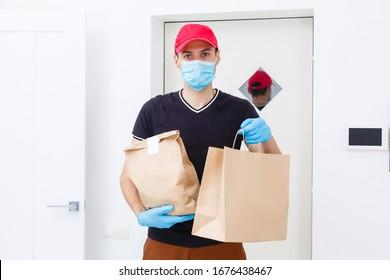gloves: (138, 204, 196, 228), (237, 117, 272, 144)
